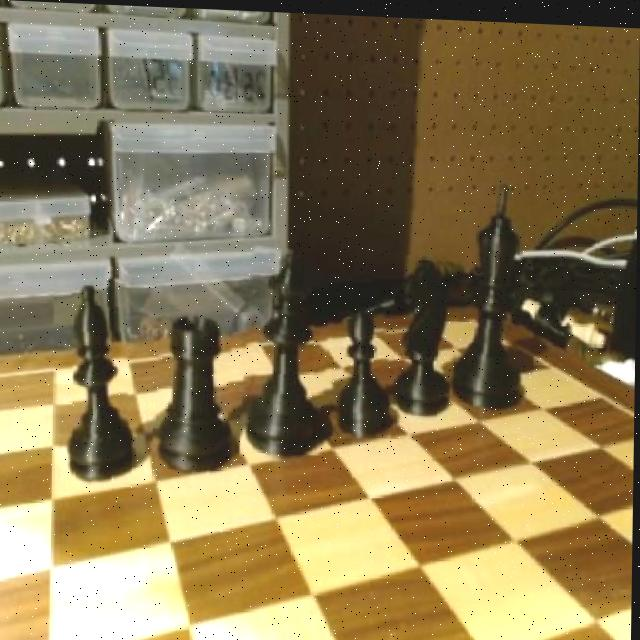bishop: (54, 277, 132, 487)
black-bishop: (453, 167, 524, 405)
black-king: (389, 251, 457, 422)
black-knight: (333, 303, 392, 441)
black-pawn: (243, 244, 331, 461)
black-queen: (155, 304, 232, 474)
